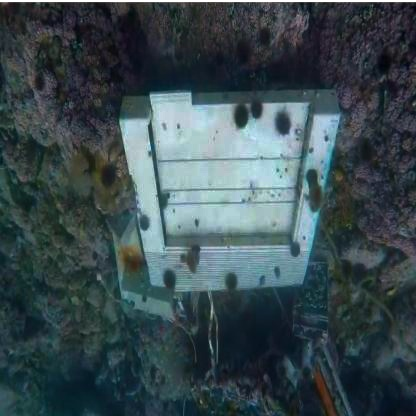electronics: (118, 82, 332, 309)
